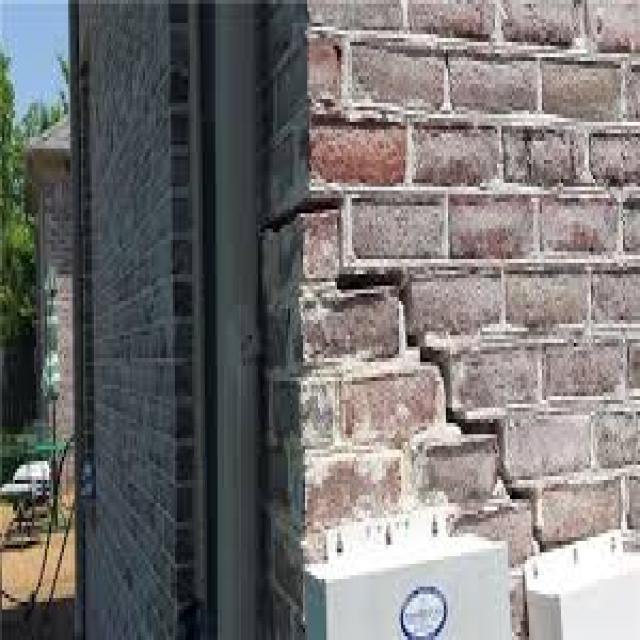Crack: (262, 186, 552, 548)
